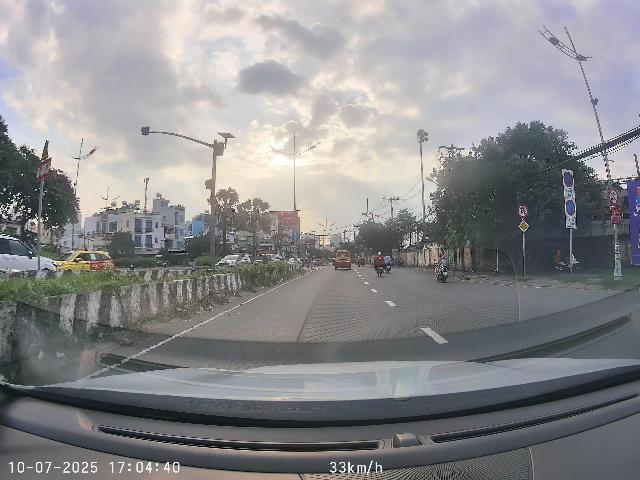124a-cam-quay-dau-xe: (517, 203, 529, 218)
130-cam-dung-va-do-xe: (564, 171, 573, 187)
131a-cam-do-xe: (566, 199, 575, 216)
301a-cac-xe-chi-duoc-di-thang: (291, 231, 299, 240)
